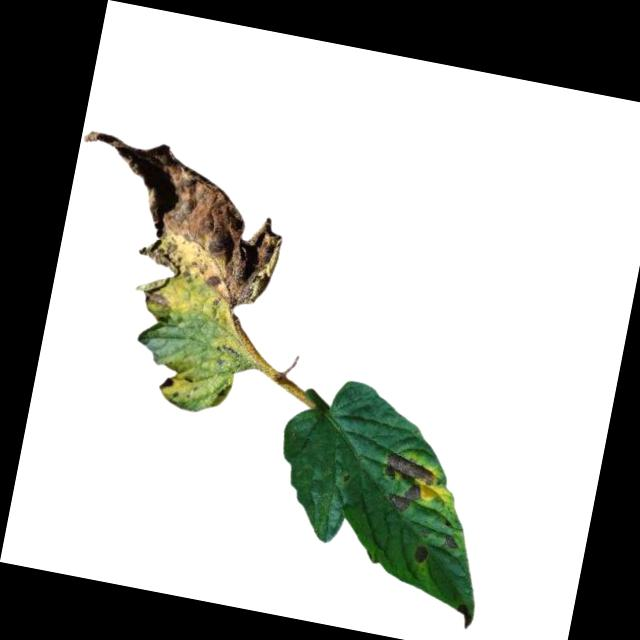Early_blight: (54, 126, 297, 329), (376, 448, 439, 516), (454, 601, 476, 630), (411, 540, 430, 565), (442, 533, 461, 550), (158, 371, 174, 390)
